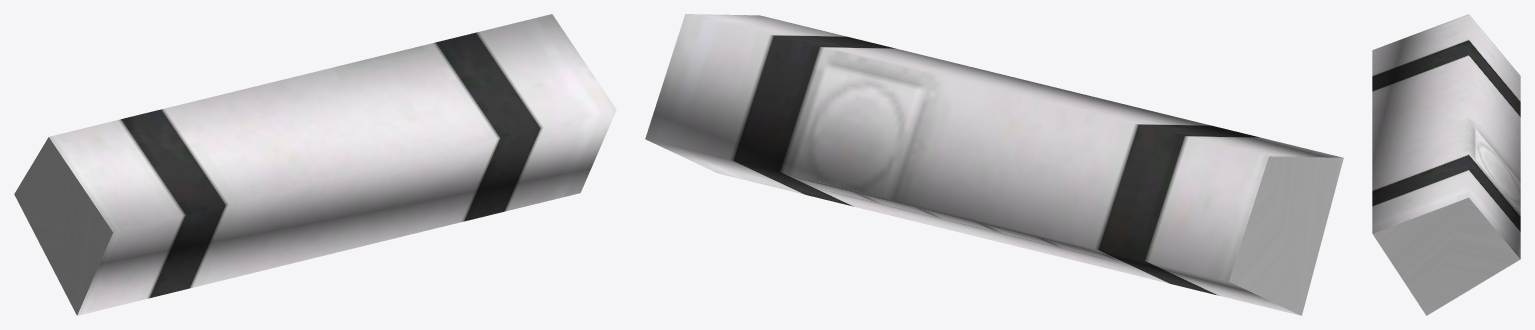
Rendered from wp_grenade_imp_detonator_l2.fbx.
3 views of the same model, side by side, from view 1: azimuth 30°, elevation 25°; view 2: azimuth 150°, elevation 25°; view 3: azimuth 270°, elevation 25° (orthographic). The views are drawn at different scales.
Visible parts, largest first — view 1: mesh_node; view 2: mesh_node; view 3: mesh_node.
Boxes of the visible parts, x1,y1,x2,y2 form: mesh_node: (14,14,616,315); mesh_node: (645,14,1343,315); mesh_node: (1372,14,1520,315).
Bounding box in the file's own units: 0.2107 × 0.0633 × 0.0719.
1 material, 1 textured.
